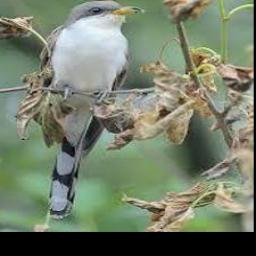Cuckoo: (41, 0, 146, 219)
